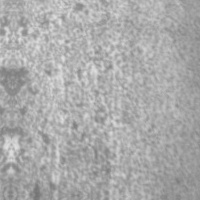pitted_surface: (11, 0, 146, 185)
